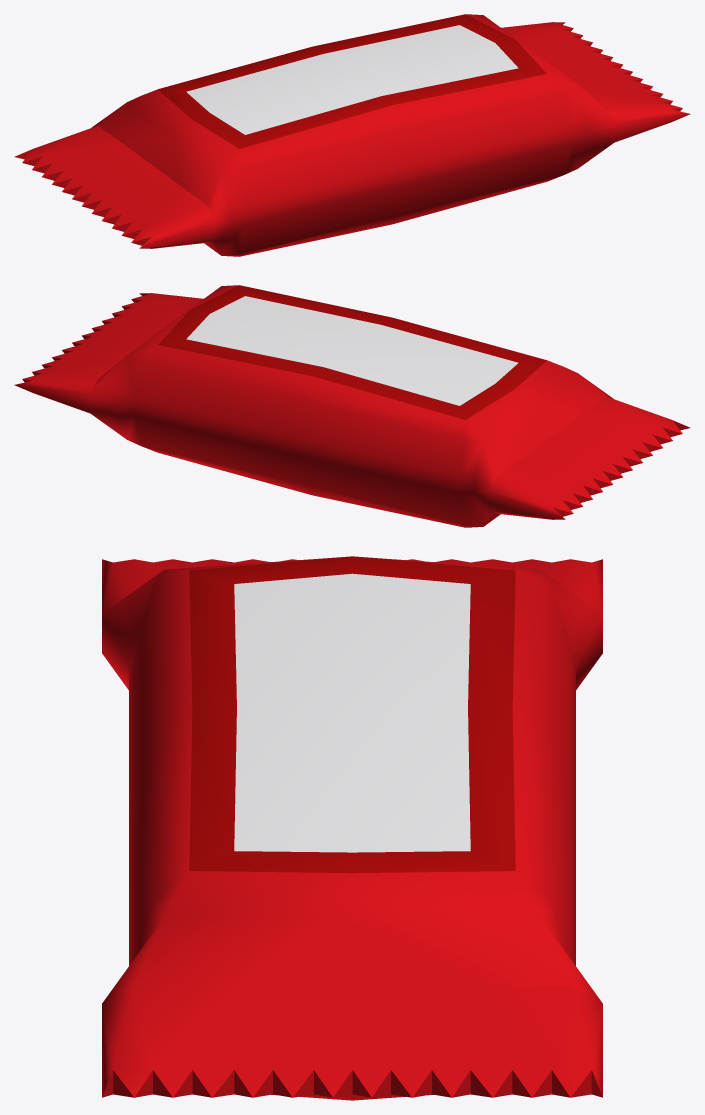
The model's file is Candy_packaging_02.fbx.
3 views of the same model, one above another, from view 1: azimuth 30°, elevation 25°; view 2: azimuth 150°, elevation 25°; view 3: azimuth 270°, elevation 25° (orthographic). The views are drawn at different scales.
Visible parts, largest first — view 1: Candy_packaging_02; view 2: Candy_packaging_02; view 3: Candy_packaging_02.
Part boxes in pixels (x1,y1,x2,y2): Candy_packaging_02: (14, 14, 690, 256); Candy_packaging_02: (14, 285, 690, 527); Candy_packaging_02: (102, 556, 602, 1100).
Size of the model in its own units: 197 by 77.29 by 42.78.
